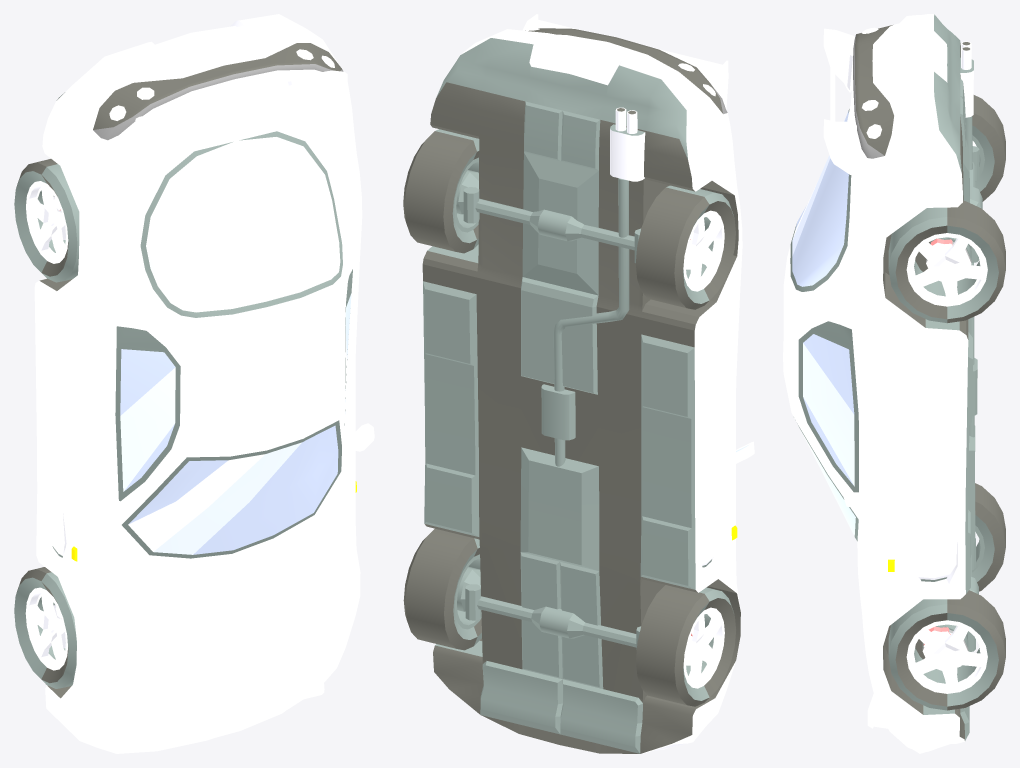
The model's file is mazda_rx7.glb.
3 views of the same model, side by side, from view 1: azimuth 30°, elevation 25°; view 2: azimuth 150°, elevation 25°; view 3: azimuth 270°, elevation 25° (orthographic). The views are drawn at different scales.
Parts seen in each view (by area): view 1: Low Poly Rx7; view 2: Low Poly Rx7; view 3: Low Poly Rx7.
Boxes of the visible parts, box(x1,y1,x2,y2) form: Low Poly Rx7: box(14, 14, 374, 753); Low Poly Rx7: box(403, 14, 754, 753); Low Poly Rx7: box(783, 14, 1005, 753).
Bounding box in the file's own units: 2.42 × 5.73 × 1.71.
